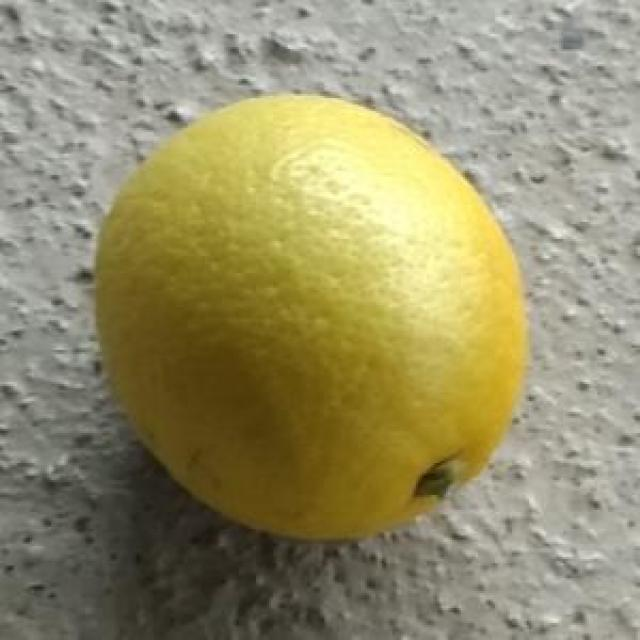lemon: (93, 94, 525, 544)
